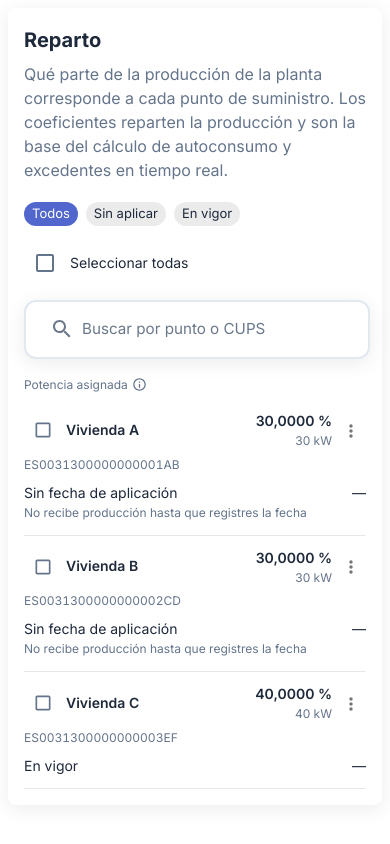
it: SharingAgreementCoefficientSet (batch activation) › header checkbox: unchecked when nothing is selected, click selects every visible actionable row
The width and height of the screenshot is (390, 844).
Click the checkbox named "Seleccionar todas las filas visibles" at (45, 263), box x1=33 y1=251 x2=57 y2=275
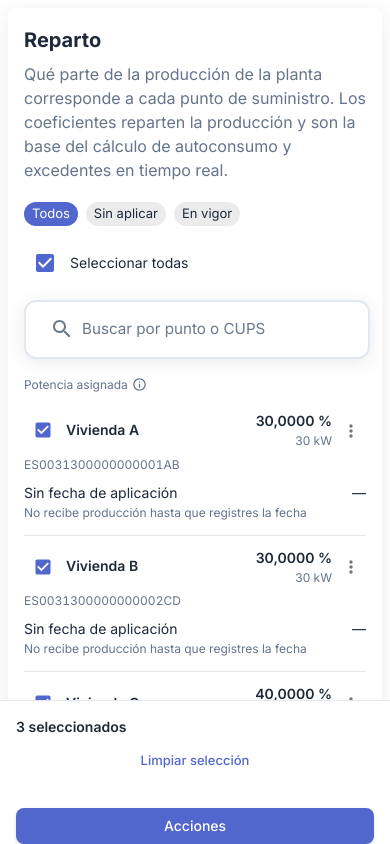
Result: the text "3 seleccionados" is shown at x1=16 y1=718 x2=126 y2=735
